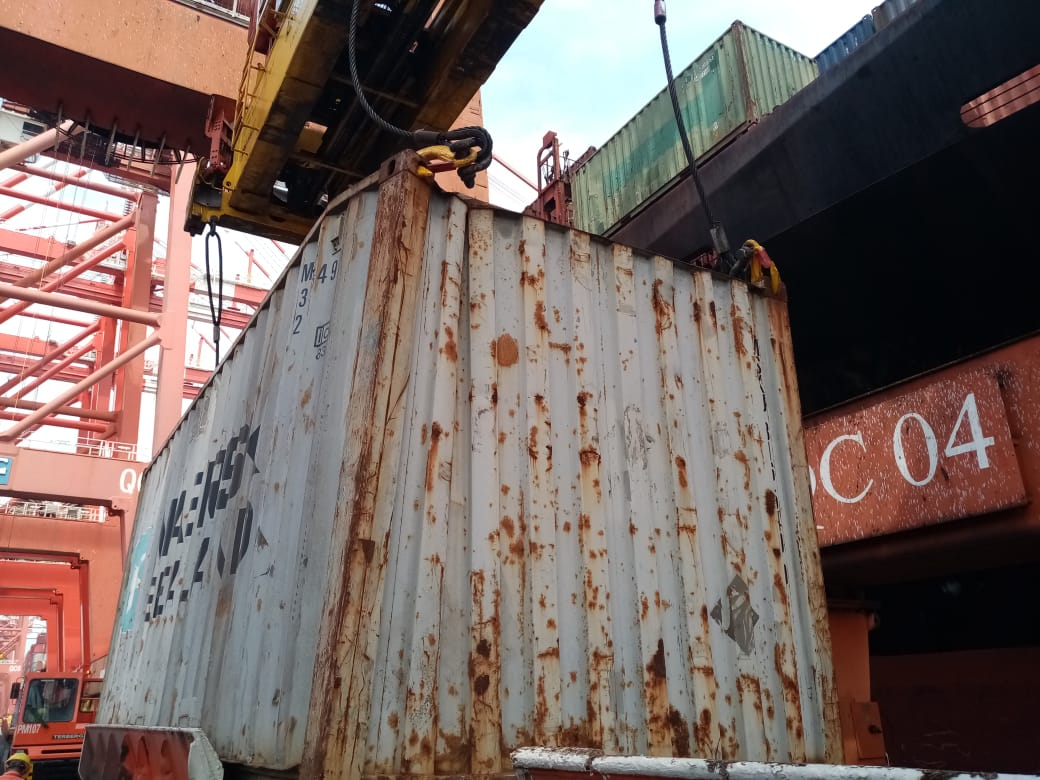bulged: (271, 166, 420, 382)
rust: (402, 519, 739, 745), (568, 276, 764, 421)
